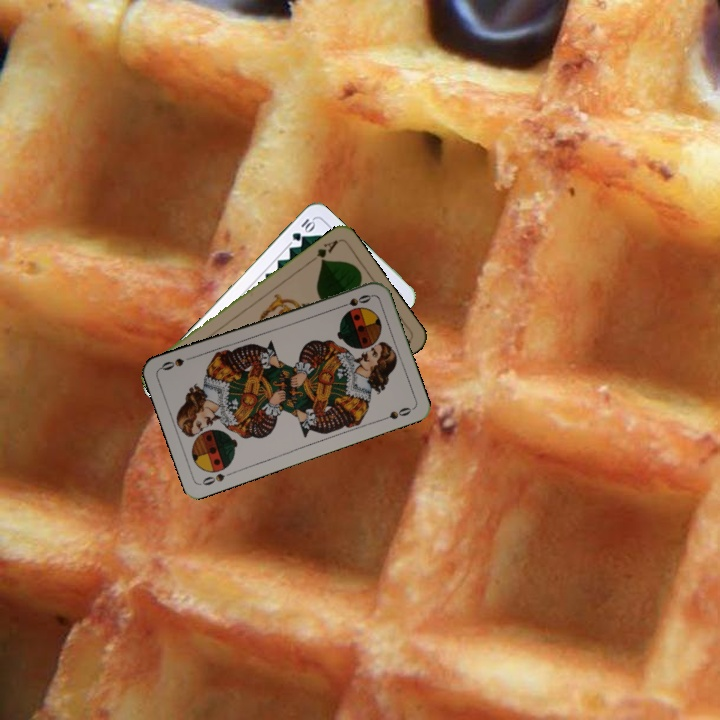G10: (288, 214, 318, 244)
GA: (306, 236, 341, 265)
SO: (335, 290, 374, 311), (198, 467, 237, 488)
